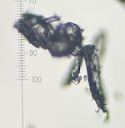microplastic: (63, 32, 109, 121), (14, 12, 85, 58)
